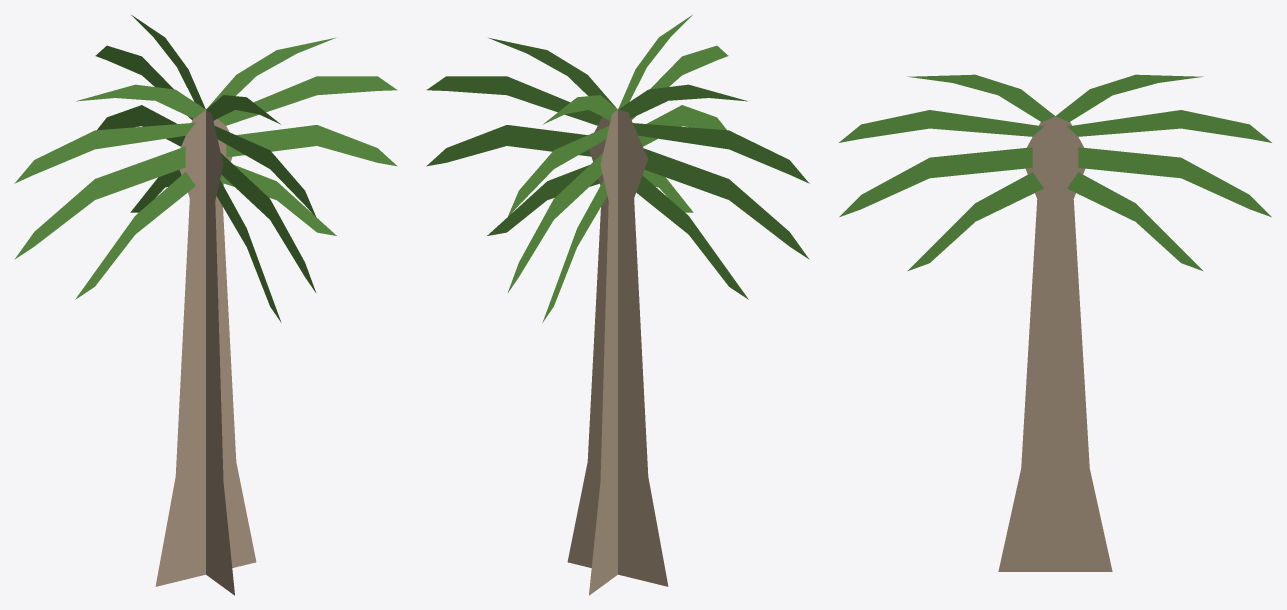
The model's file is tre8.glb.
3 views of the same model, side by side, from view 1: azimuth 30°, elevation 25°; view 2: azimuth 150°, elevation 25°; view 3: azimuth 270°, elevation 25° (orthographic). The views are drawn at different scales.
Parts seen in each view (by area): view 1: tre8; view 2: tre8; view 3: tre8.
Boxes of the visible parts, x1,y1,x2,y2 form: tre8: (14, 15, 397, 595); tre8: (426, 15, 809, 595); tre8: (839, 74, 1271, 571).
Bounding box in the file's own units: 4.18 × 5.28 × 4.18.
